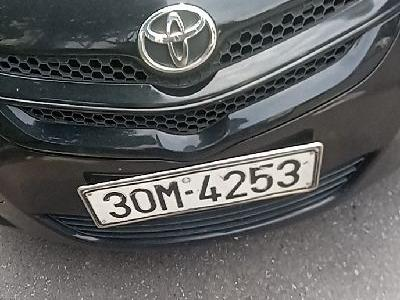number: (81, 144, 323, 229)
